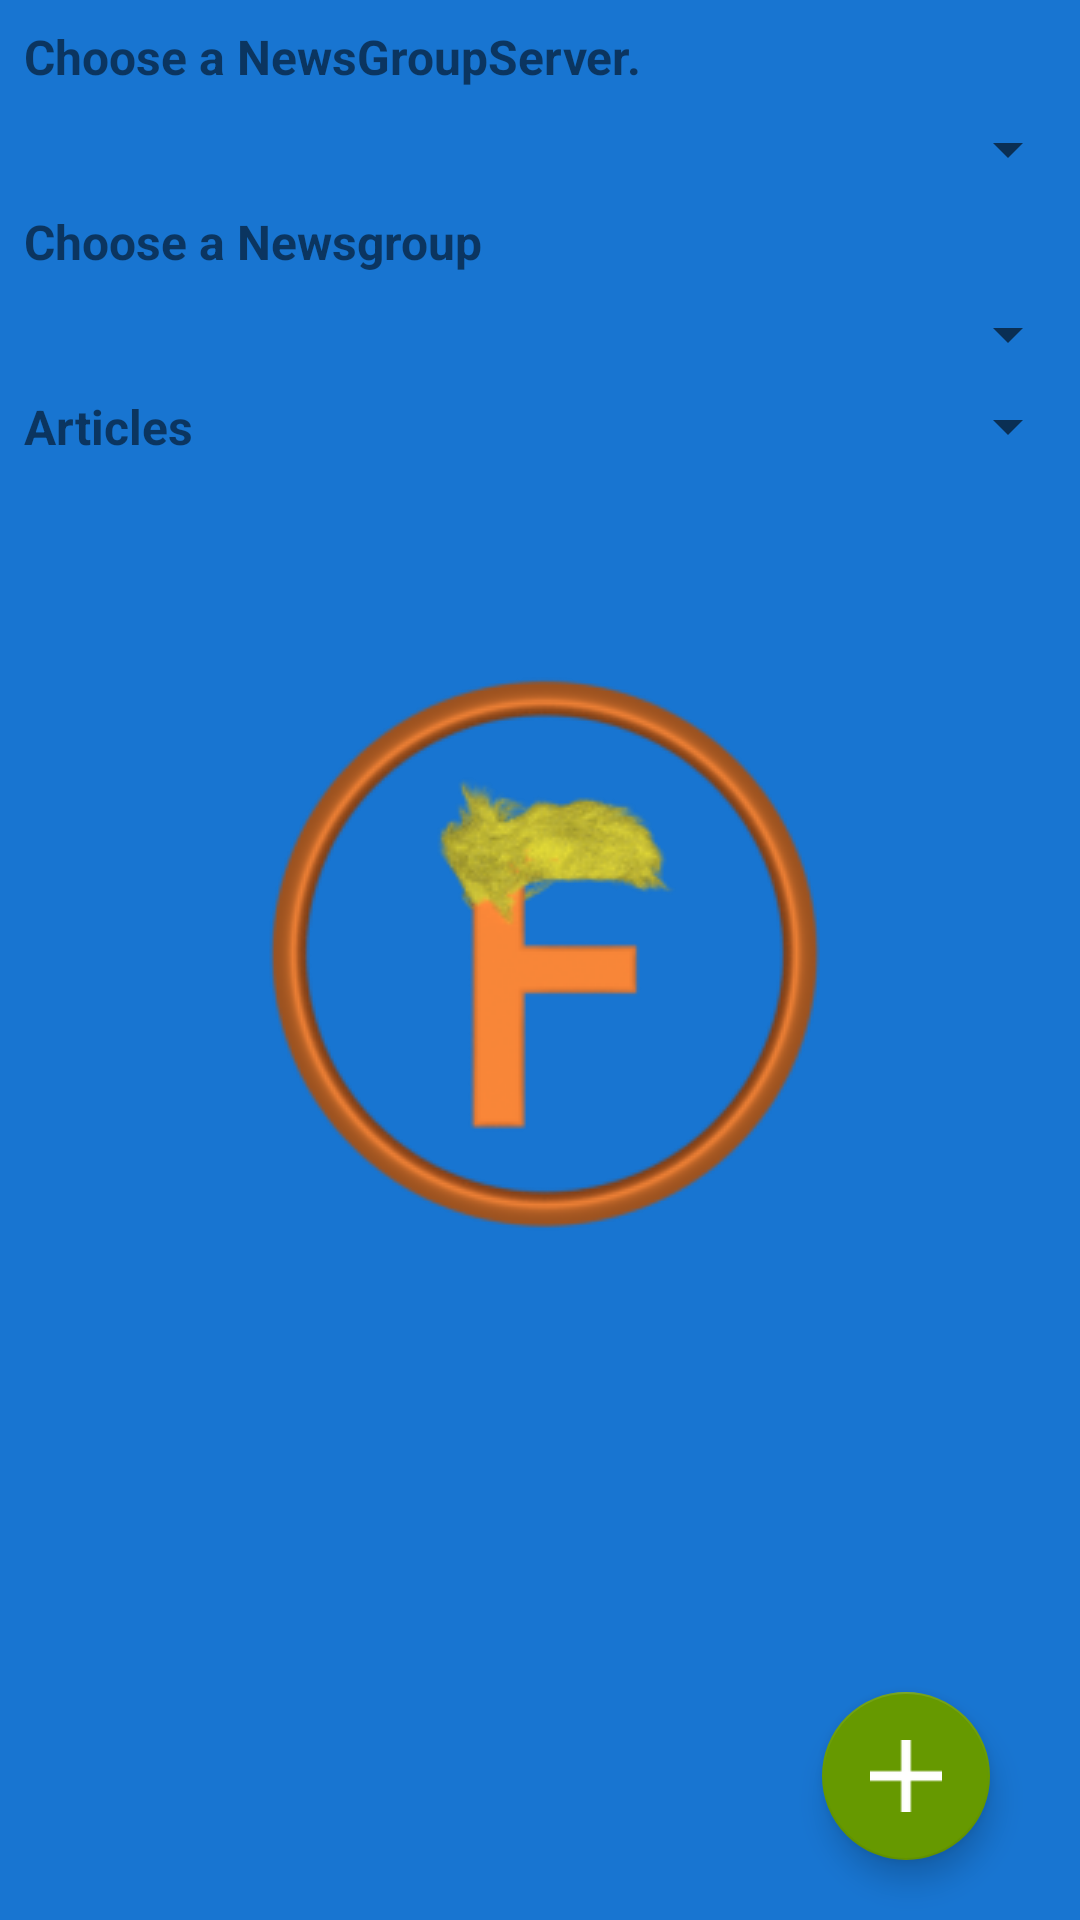

Where to tap for icons on this 1080w x 1920h app screen, as [x,y]:
add article: [906,1776]
